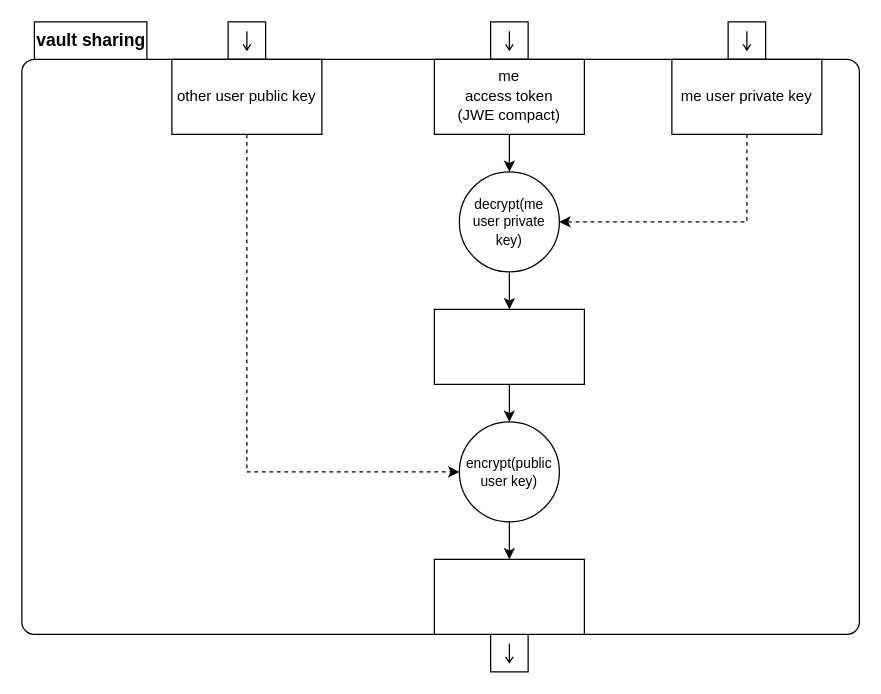
This 881x694 diagram has some shape labels left out. Each missing label, with the centre of its shape:
"other user access token (JWE compact)" belongs at [508,596].
"owner access token payload (JSON)" belongs at [508,346].
